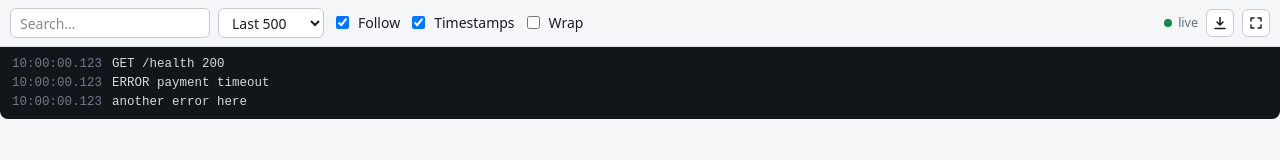
Test: LogsPanel › searching keeps the matching lines and marks the match
The width and height of the screenshot is (1280, 160).
Type "error" into the search field named "Search logs" at (110, 23), box [10, 8, 210, 38]
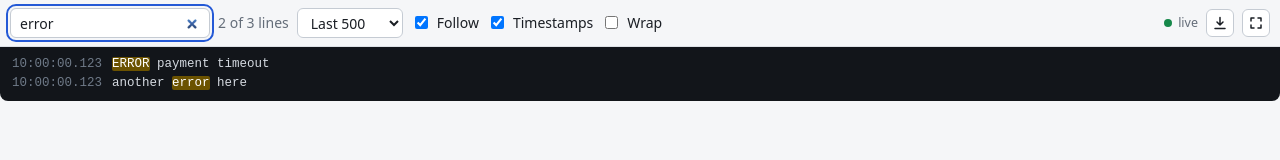
Check: the text "GET /health 200" is gone
Check: the text "2 of 3 lines" is shown, box [218, 13, 289, 33]
Clear the search field named "Search logs" at (110, 23), box [10, 8, 210, 38]
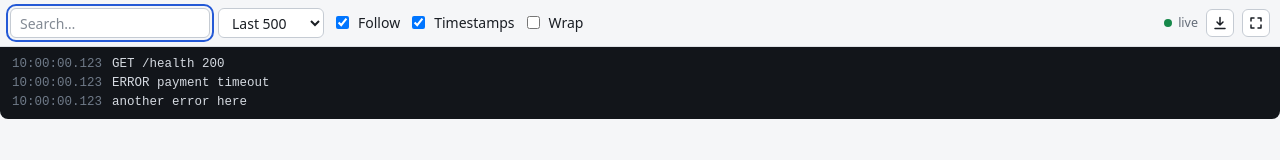
Check: the text "GET /health 200" is shown, box [112, 57, 224, 71]
